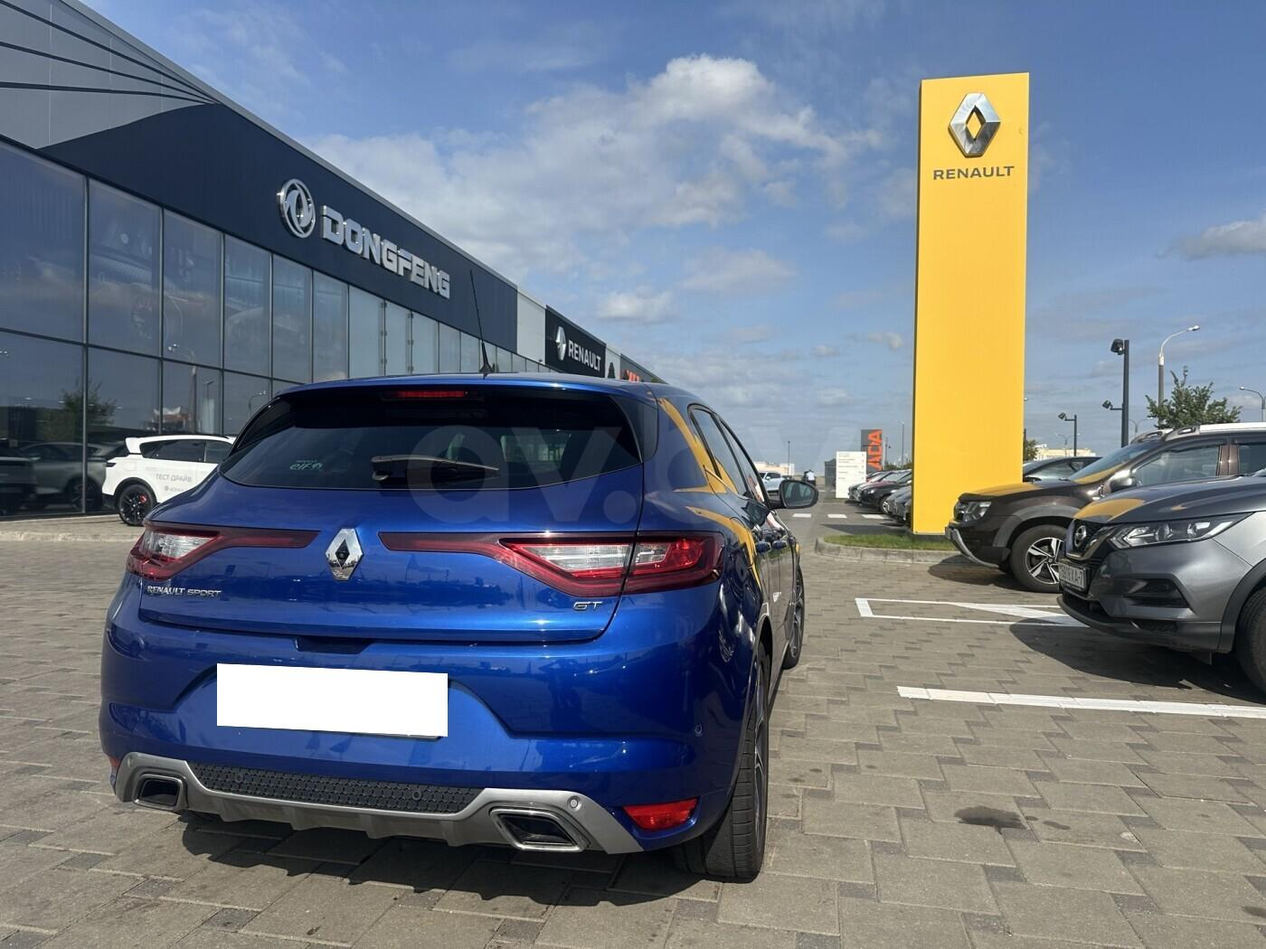Megane_2016-2020: (90, 365, 815, 879)
